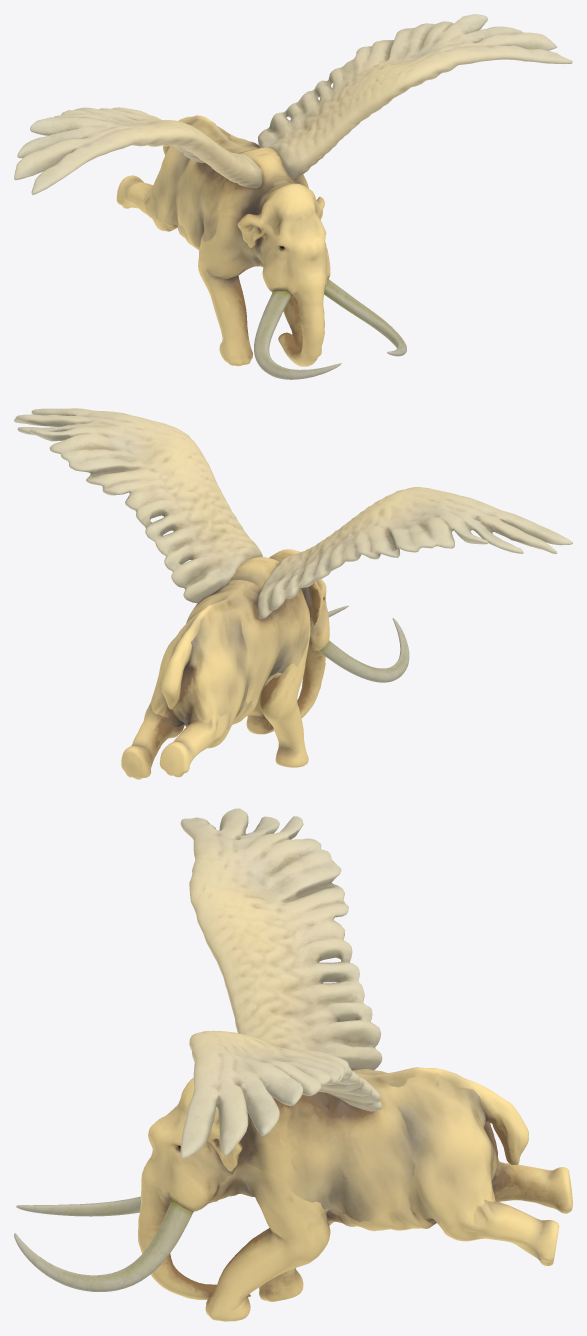
Rendered from MZ4250 - Lulu Mammoth Form.glb.
3 renders of one model, top to bottom at view 1: azimuth 30°, elevation 25°; view 2: azimuth 150°, elevation 25°; view 3: azimuth 270°, elevation 25°, orthographic. The views are drawn at different scales.
Parts seen in each view (by area): view 1: Mammoth t.003, wings.003; view 2: wings.003, Mammoth t.003; view 3: Mammoth t.003, wings.003.
Part boxes in pixels (box(x1,y1,x2,y2)): Mammoth t.003: box(116, 115, 406, 379); wings.003: box(14, 14, 572, 194); wings.003: box(14, 408, 572, 619); Mammoth t.003: box(121, 549, 409, 779); Mammoth t.003: box(14, 1067, 572, 1321); wings.003: box(180, 808, 382, 1159).
Size of the model in its own units: 164 by 81.85 by 114.
2 materials, 2 textured.
